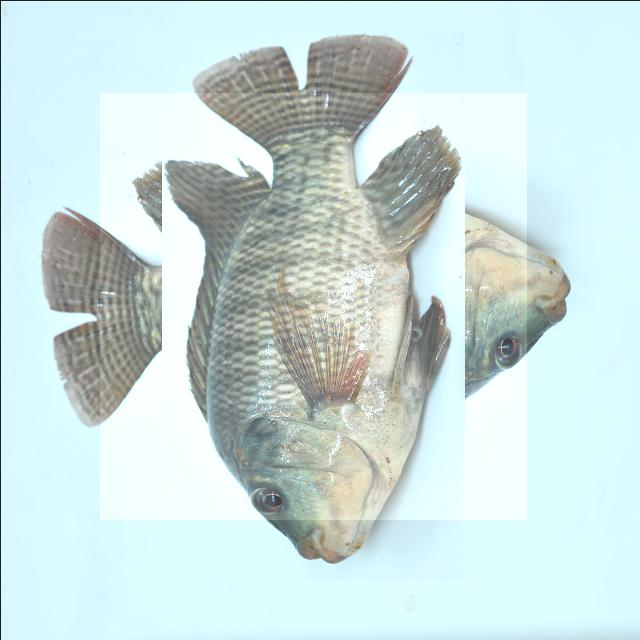Healthy Fish: (99, 92, 526, 519)
